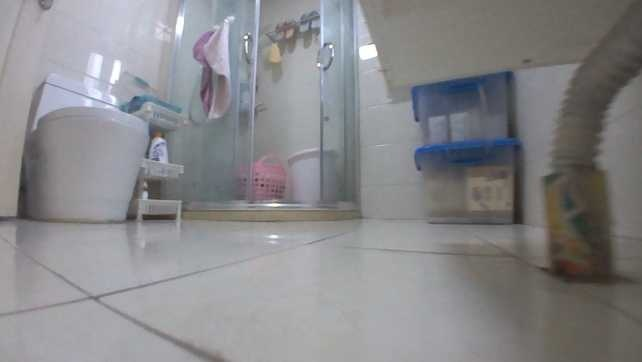toilet: (21, 70, 151, 227)
